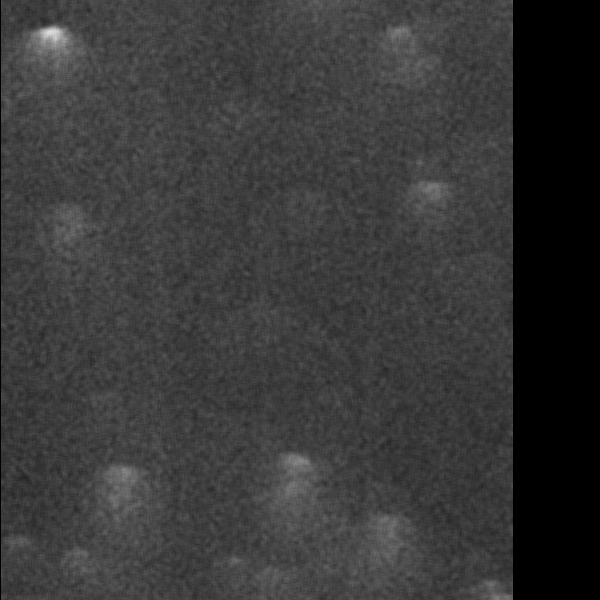spark: (137, 168, 174, 231), (431, 123, 495, 154)
